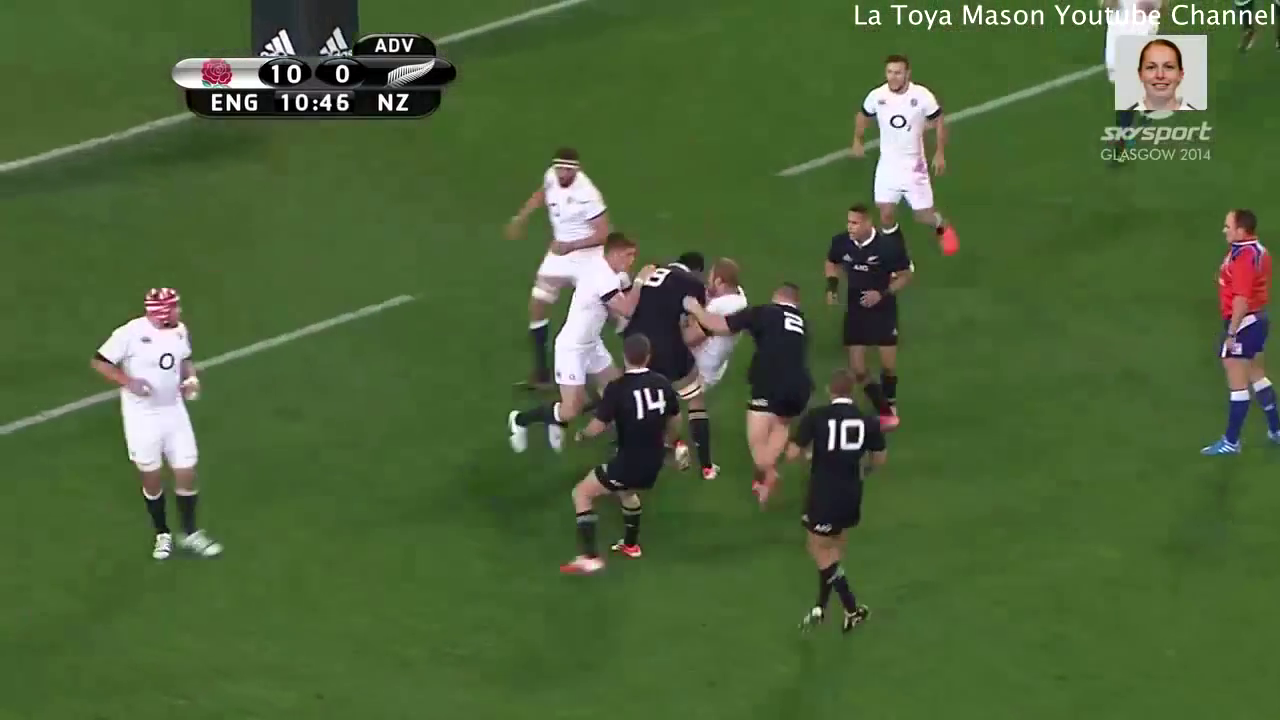player: (77, 276, 242, 573), (777, 363, 896, 659), (549, 333, 685, 591), (688, 266, 818, 523), (499, 241, 642, 469), (492, 132, 605, 397), (844, 54, 968, 272), (805, 197, 909, 445), (615, 240, 717, 491), (1189, 195, 1280, 467), (687, 241, 748, 406)
